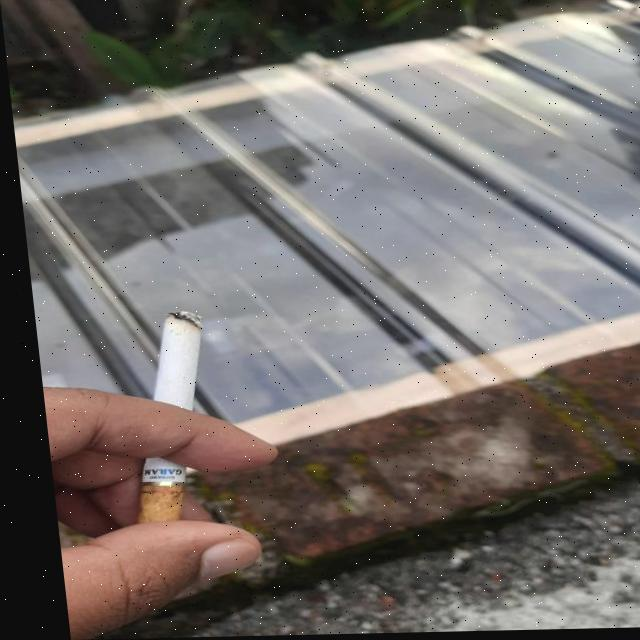cigarette: (110, 311, 213, 523)
